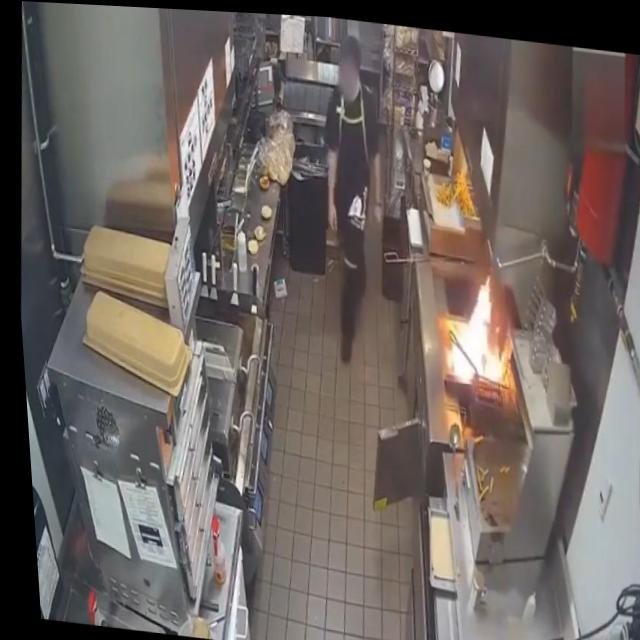fire: (433, 258, 512, 384)
